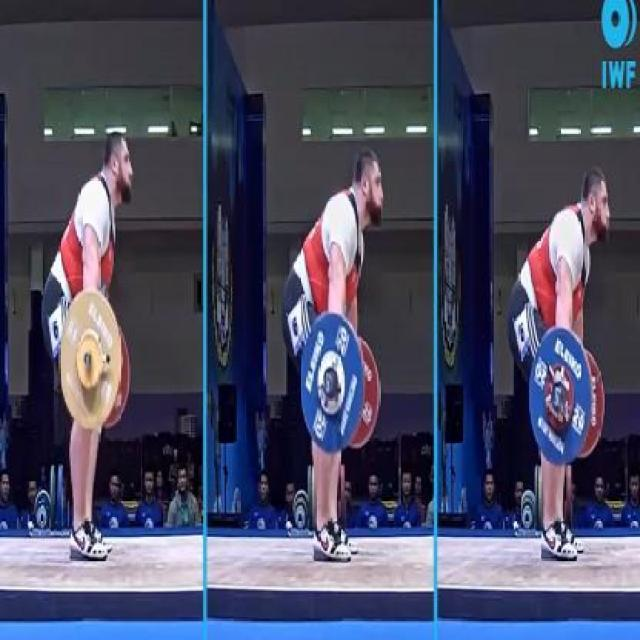barbell: (51, 285, 126, 439), (526, 323, 598, 472), (293, 310, 365, 457)
